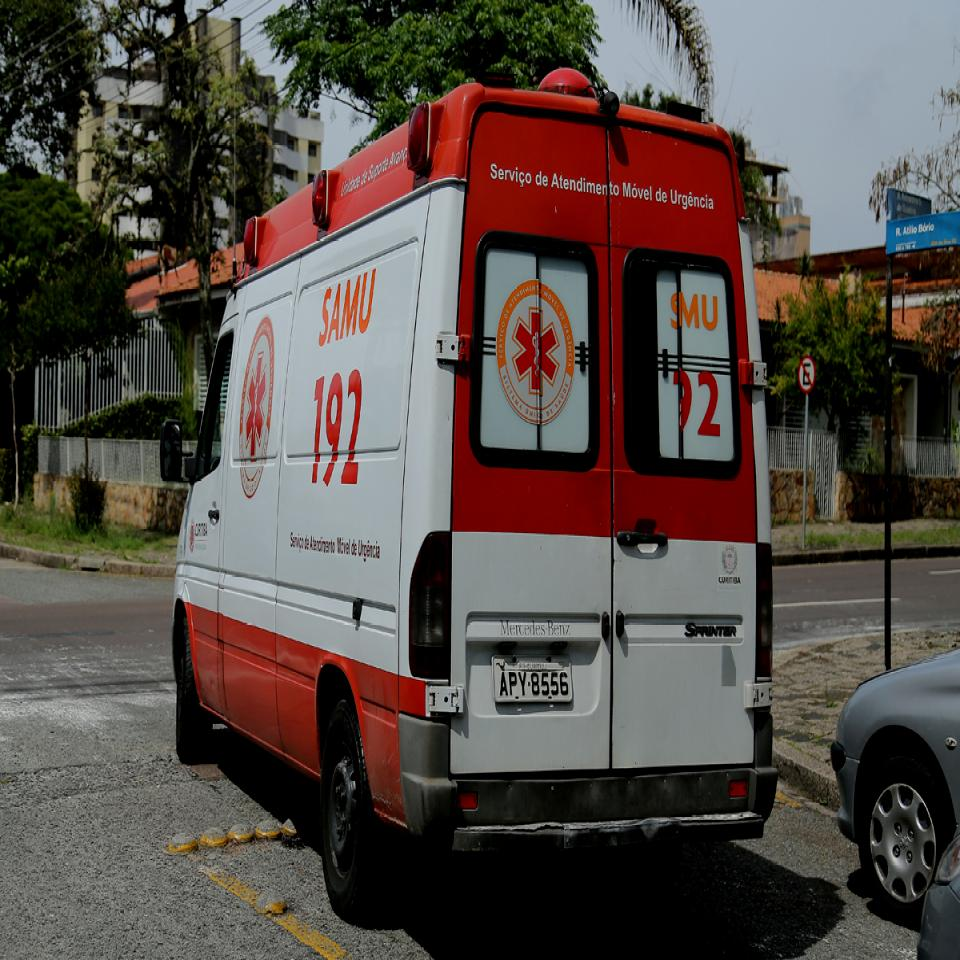ambulancia: (167, 63, 783, 930)
